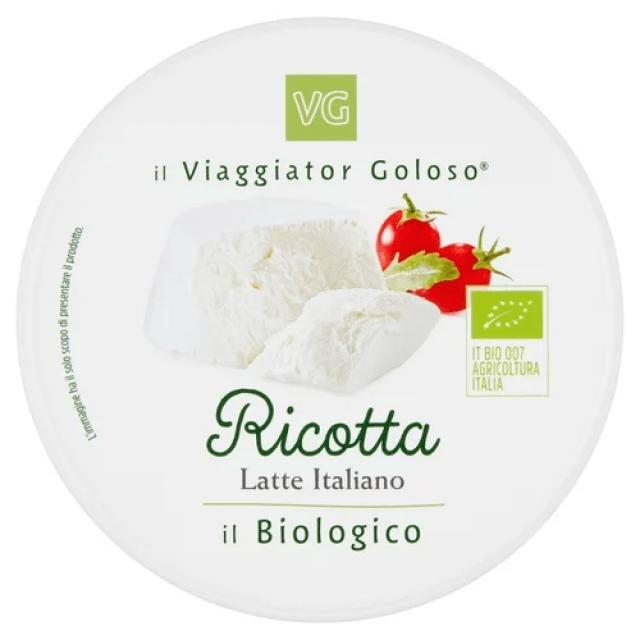Cheese: (22, 19, 625, 626)
